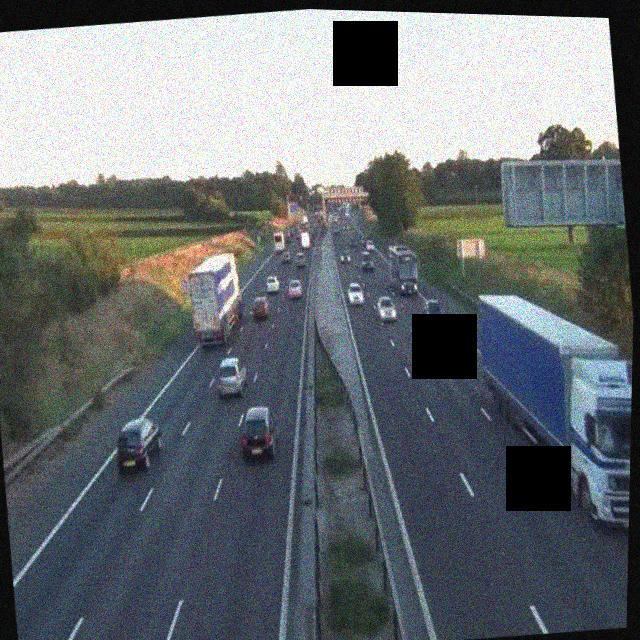bus: (271, 230, 286, 253)
car: (112, 415, 165, 477), (236, 405, 279, 462), (213, 353, 248, 399), (421, 296, 446, 328), (376, 293, 397, 323), (346, 280, 365, 307), (250, 295, 270, 319), (286, 278, 304, 302), (263, 275, 279, 294), (358, 254, 373, 273), (294, 252, 307, 269), (387, 244, 399, 262), (339, 248, 351, 264), (279, 248, 289, 263), (362, 236, 372, 250), (332, 223, 340, 235)
truck: (468, 279, 634, 543), (182, 252, 246, 351), (389, 246, 421, 299), (298, 228, 312, 252)
